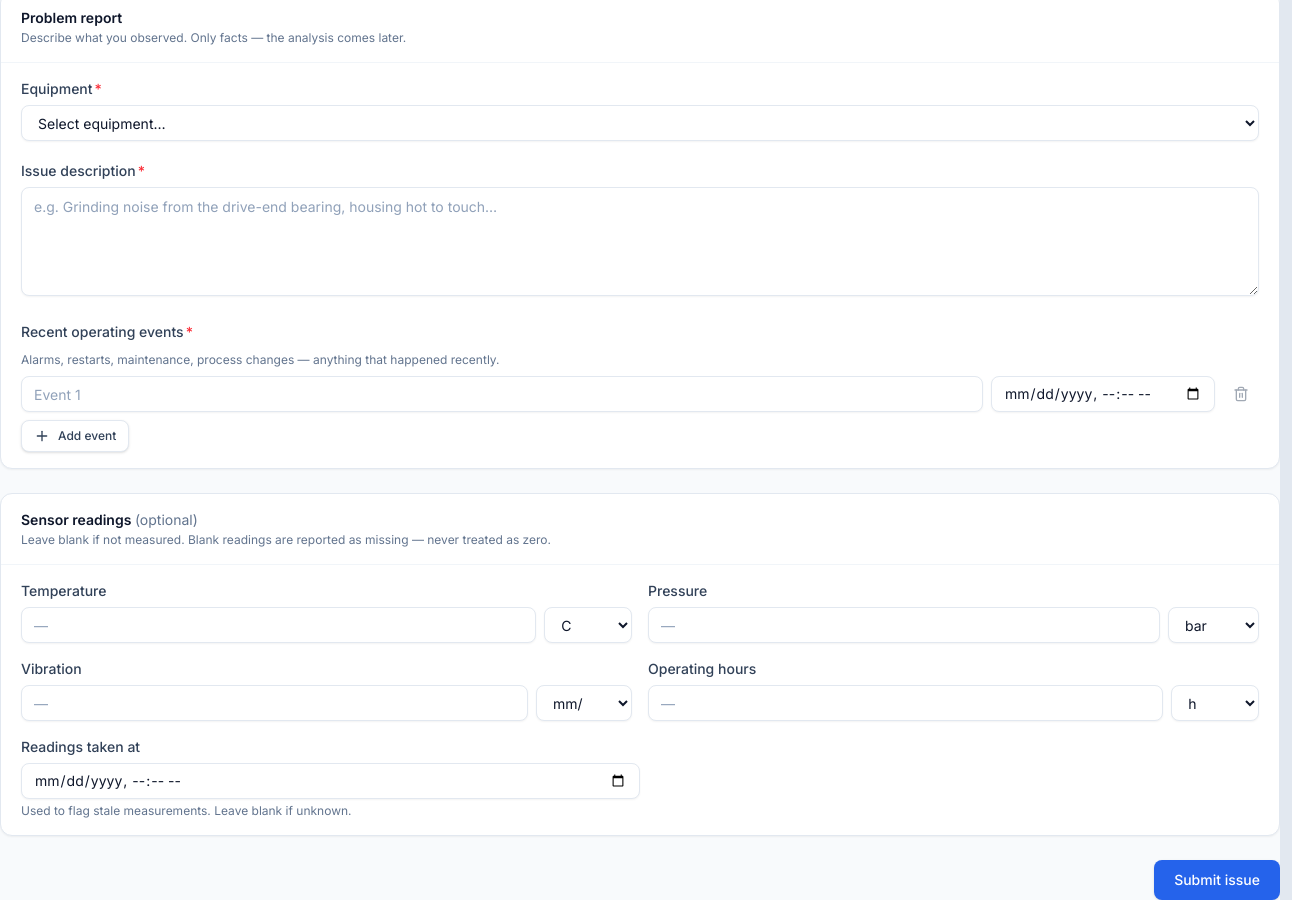
it: IssueForm validation › shows field errors and does not submit when required fields are missing
The width and height of the screenshot is (1292, 900).
(page scrolled)
What coordinates should you click on to do the following:
click the button "Submit issue"
I would click on:
 (1217, 880)
Its box is [1154,860,1280,899].
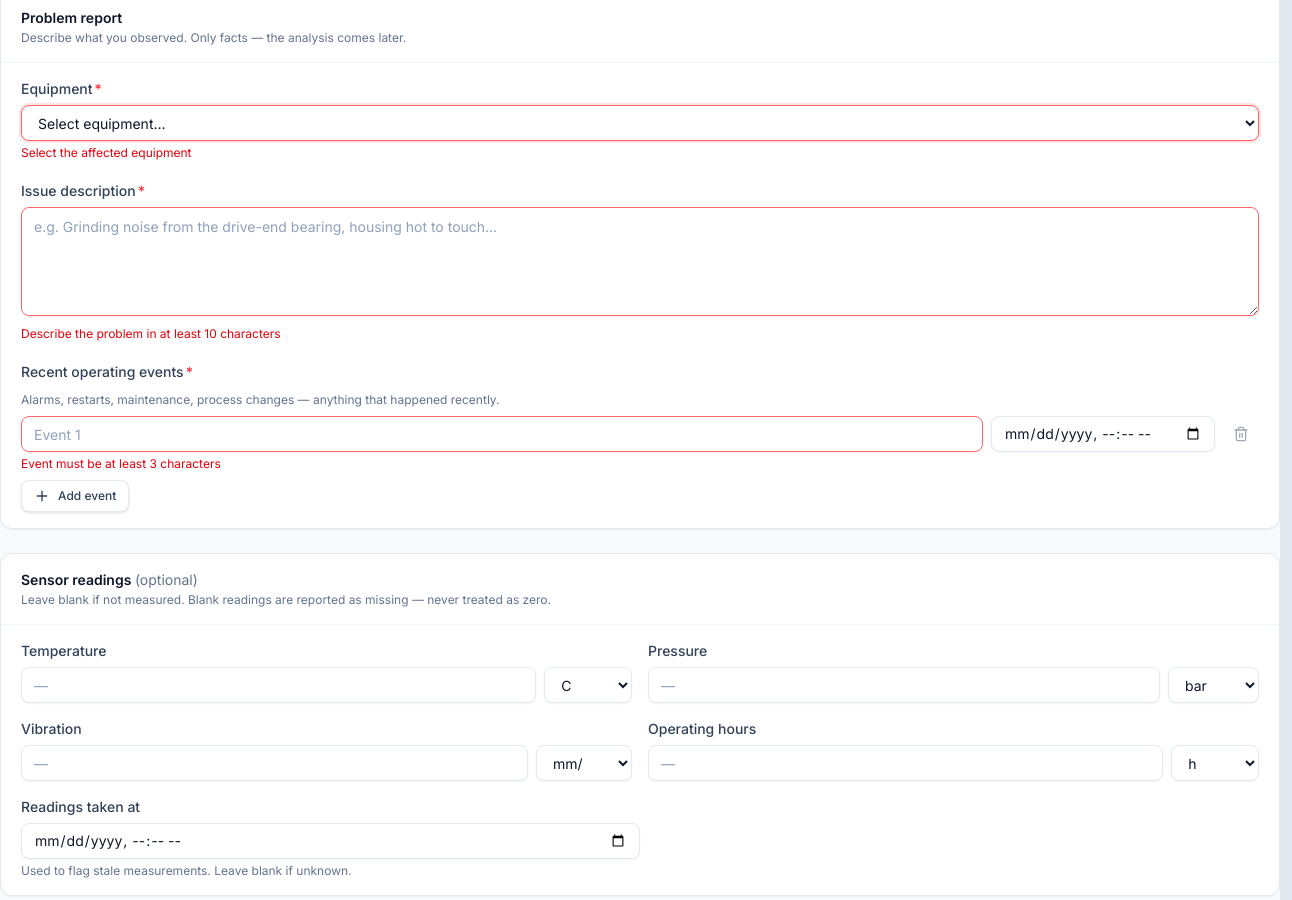
Expected: the text "Select the affected equipment" is shown, [21,145,192,160]
Expected: the text "Describe the problem in at least 10 characters" is shown, [21,326,281,341]
Expected: the text "Event must be at least 3 characters" is shown, [21,456,221,471]
